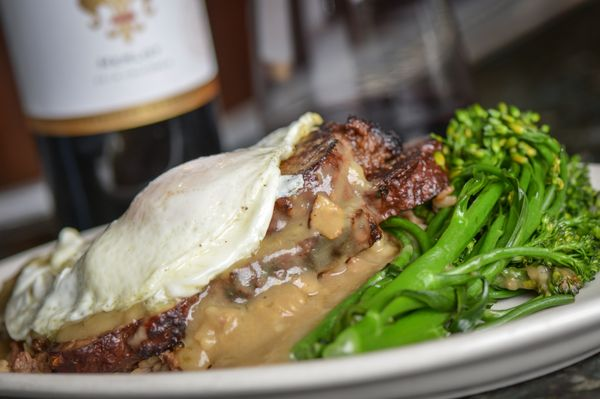curry: (290, 99, 600, 362)
pizza: (1, 1, 224, 243), (1, 1, 222, 142)
soup: (3, 111, 455, 377)
